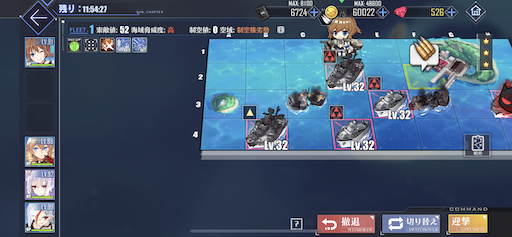lv1: (242, 106, 287, 151)
lv3: (328, 103, 375, 150), (365, 76, 411, 118), (323, 50, 368, 92)
